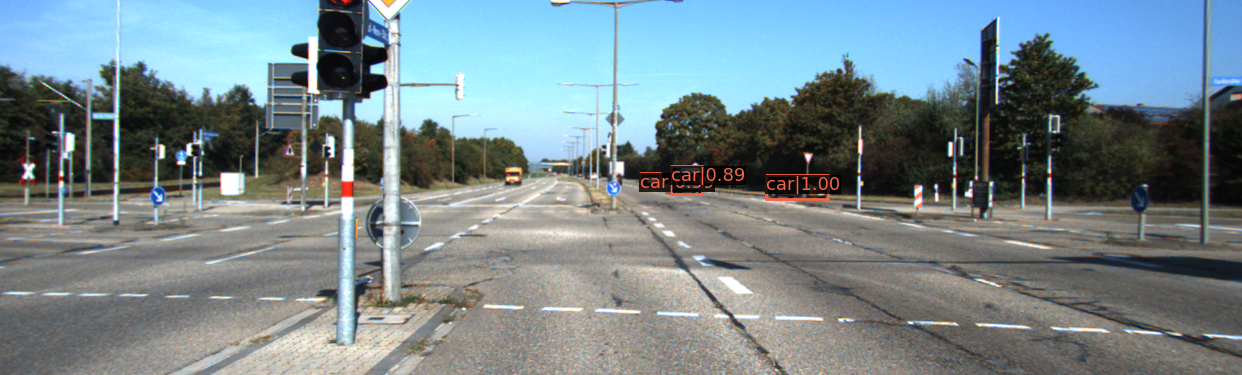car: (767, 175, 828, 201)
